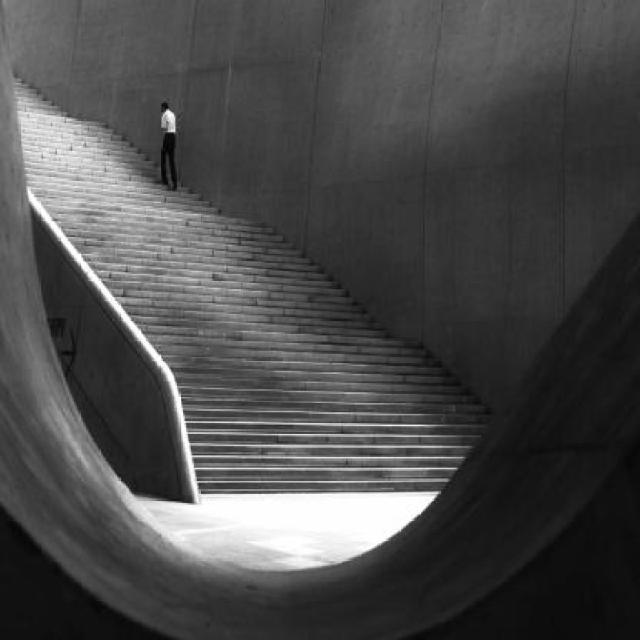stair: (12, 68, 494, 492)
